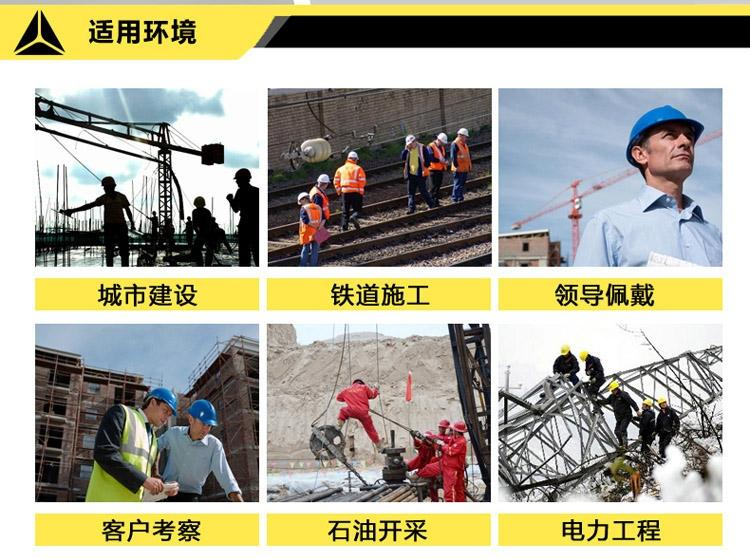helmet: (626, 105, 703, 141), (145, 386, 179, 422), (188, 398, 219, 426), (452, 419, 465, 434), (402, 134, 418, 145), (435, 418, 449, 430), (607, 381, 618, 395), (457, 126, 469, 138), (437, 131, 448, 143), (346, 151, 359, 161), (579, 349, 589, 362), (560, 344, 574, 353), (654, 397, 669, 405), (642, 396, 653, 406)
no_wear: (581, 195, 719, 267), (161, 434, 217, 491), (555, 356, 577, 378), (658, 410, 677, 433)
wear: (92, 415, 158, 500), (335, 162, 364, 193), (440, 440, 468, 471), (342, 386, 369, 416), (298, 204, 322, 236), (452, 141, 474, 174), (428, 144, 447, 173), (314, 188, 329, 215)
